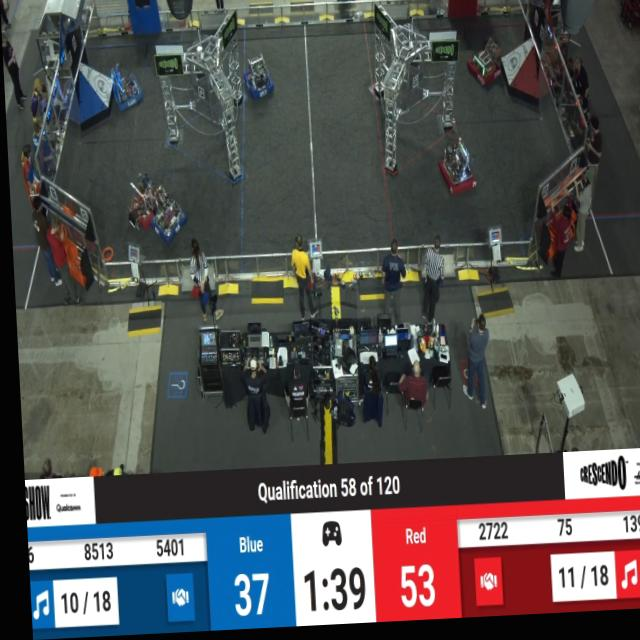Robot: (143, 180, 186, 251), (432, 139, 476, 203), (122, 171, 162, 237), (465, 35, 504, 96), (109, 65, 142, 116), (245, 53, 275, 104)
